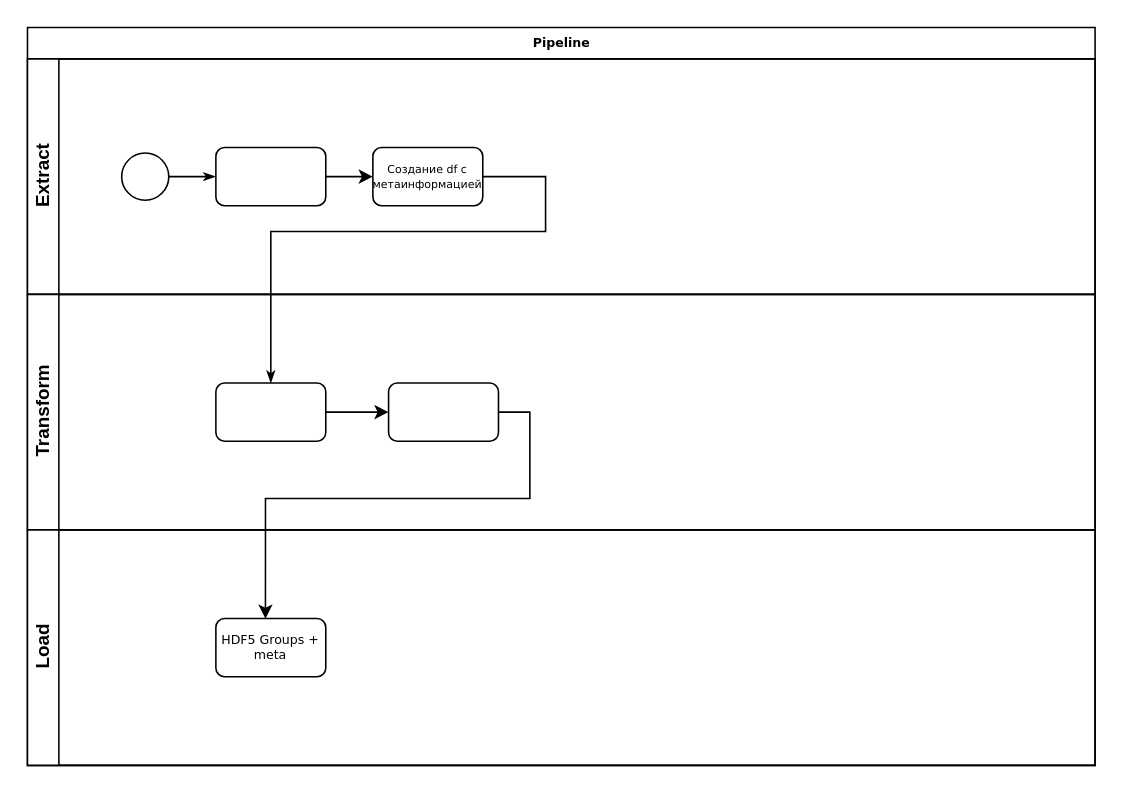
Some shapes in this 1123 by 793 pixel diagram are drawn without their labels. Here are the shapes that lost their labels. From the top down, the box of each, then its label:
(214, 146, 326, 206): Выгрузка датасетов в папки
(214, 382, 326, 441): Resize
(387, 382, 498, 441): Filter
